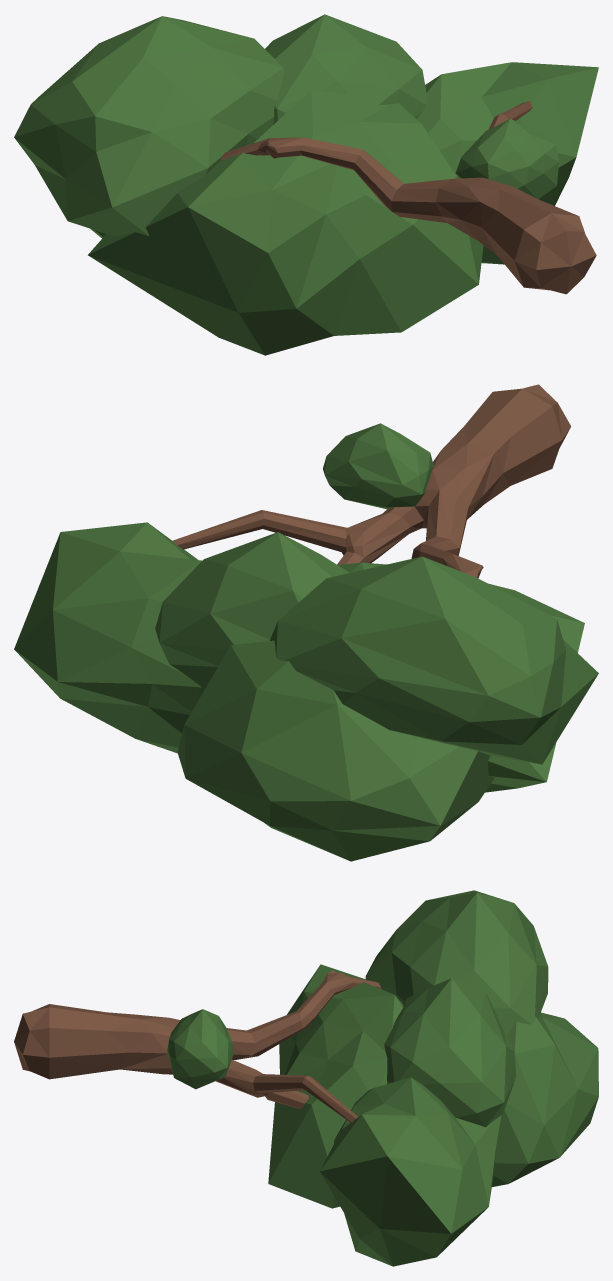
The model's file is tree5.dae.
The picture shows the model from 3 angles, top to bottom: view 1: azimuth 30°, elevation 25°; view 2: azimuth 150°, elevation 25°; view 3: azimuth 270°, elevation 25°; orthographic projection. The views are drawn at different scales.
Parts seen in each view (by area): view 1: Tree2.2; view 2: Tree2.2; view 3: Tree2.2.
Part boxes in pixels (x1=…): Tree2.2: x1=14, y1=14, x2=598, y2=355; Tree2.2: x1=14, y1=384, x2=598, y2=861; Tree2.2: x1=14, y1=890, x2=598, y2=1266.
Bounding box in the file's own units: 6.49 × 7.09 × 3.4.
Materials: 1 (1 with a texture image).
